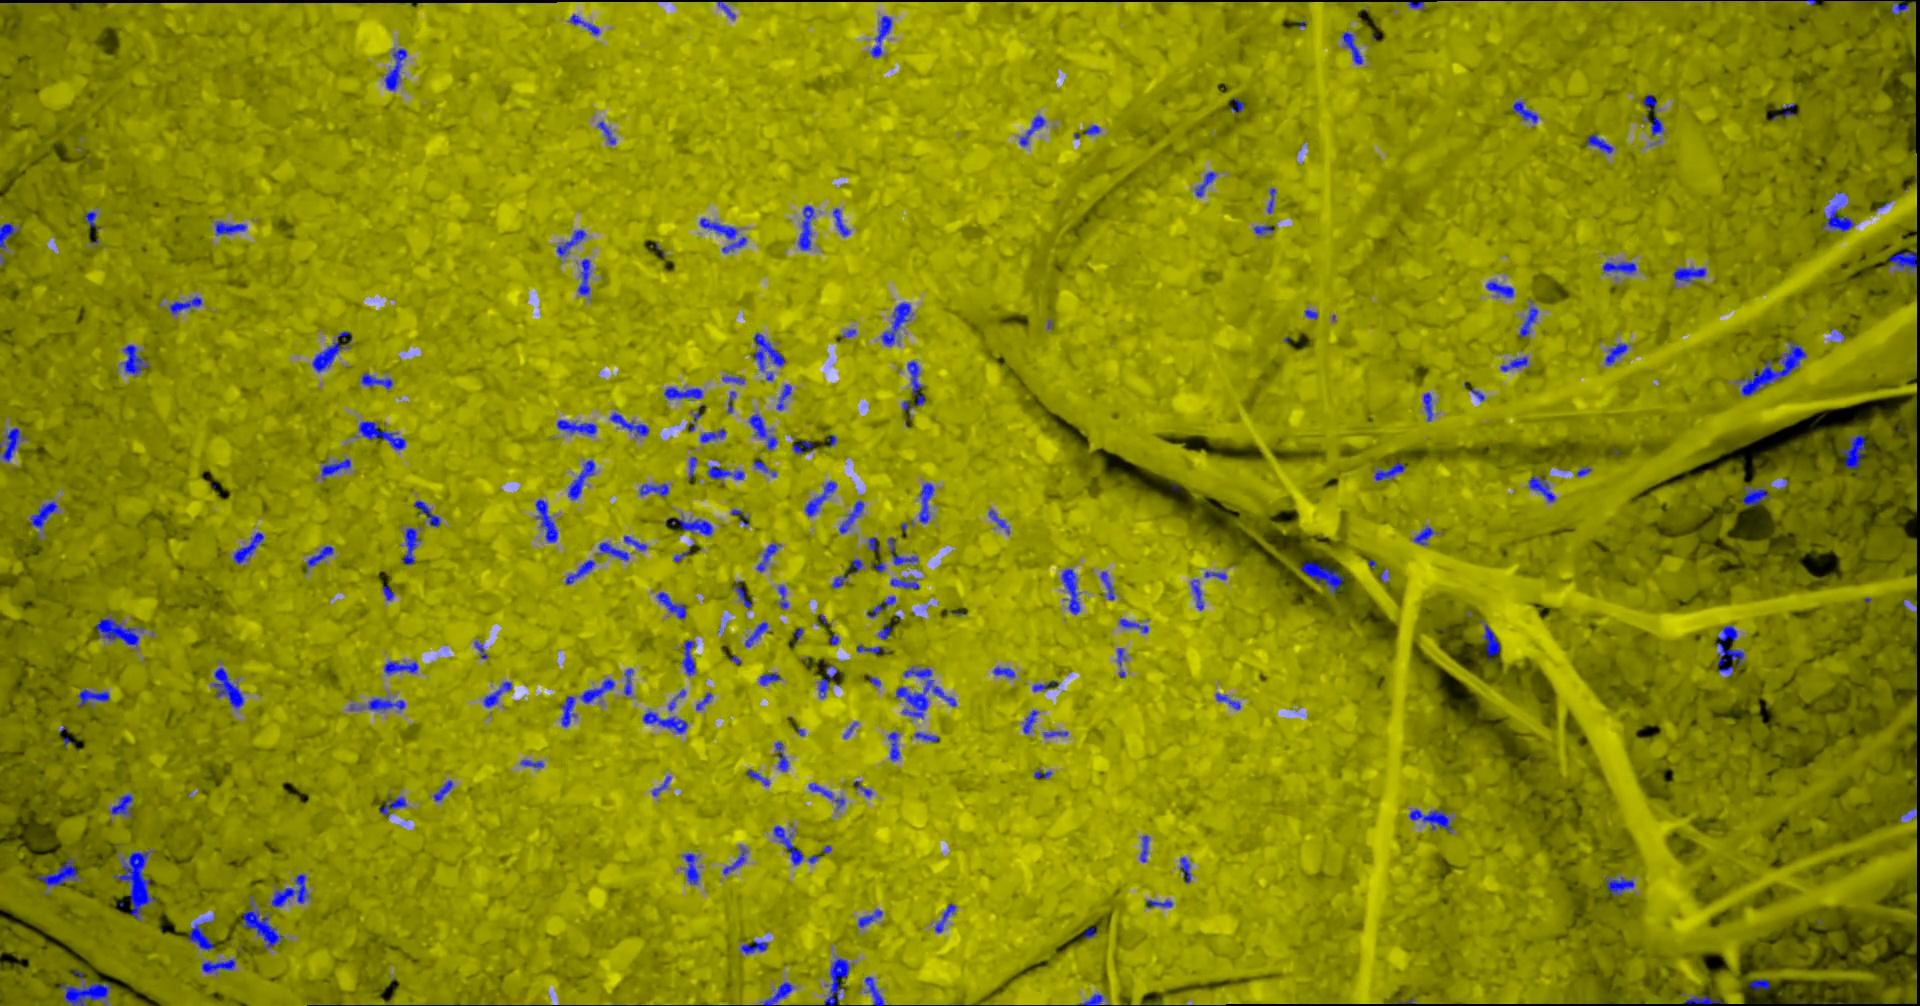ant: (895, 666, 956, 718), (241, 895, 282, 949), (311, 330, 350, 372), (698, 217, 745, 251), (1716, 625, 1743, 677), (880, 301, 912, 345), (1299, 561, 1343, 593), (95, 617, 143, 647), (211, 667, 243, 709), (358, 420, 405, 448), (270, 873, 309, 907), (823, 956, 850, 1005), (36, 857, 79, 887), (753, 332, 785, 371), (58, 982, 110, 1005), (773, 826, 803, 865), (1821, 197, 1854, 231), (804, 480, 836, 516), (568, 459, 594, 499), (1408, 808, 1451, 832), (748, 413, 777, 448), (535, 498, 557, 542), (643, 710, 687, 733), (808, 782, 844, 809), (232, 531, 263, 563), (869, 15, 891, 57), (383, 48, 406, 90), (830, 558, 862, 587), (610, 412, 648, 436), (1839, 433, 1865, 467), (667, 516, 712, 535), (1060, 568, 1079, 614), (579, 678, 615, 702), (838, 500, 863, 533), (0, 427, 24, 461), (556, 229, 585, 257), (121, 344, 149, 373), (888, 537, 917, 565), (907, 359, 924, 405), (759, 981, 792, 1005), (29, 500, 57, 528), (657, 591, 684, 619), (1018, 116, 1044, 146), (564, 559, 594, 584), (483, 681, 510, 708), (187, 922, 213, 950), (1888, 246, 1919, 271), (348, 697, 405, 710), (1341, 30, 1363, 64), (413, 499, 439, 526), (1528, 475, 1556, 500), (723, 845, 747, 874), (1517, 300, 1537, 337), (797, 205, 813, 250), (817, 664, 837, 699), (568, 14, 599, 36), (1482, 622, 1500, 661), (756, 542, 778, 572), (866, 594, 895, 617), (403, 527, 420, 564), (918, 481, 933, 523), (935, 903, 956, 932), (320, 459, 350, 479), (168, 295, 202, 312), (305, 545, 333, 567), (556, 419, 596, 434), (1741, 485, 1770, 506), (863, 976, 884, 1005), (598, 541, 629, 560), (744, 621, 767, 647), (1511, 100, 1538, 122), (378, 795, 406, 815), (77, 688, 109, 706), (559, 695, 577, 727), (1605, 876, 1634, 895), (1604, 342, 1628, 365), (1195, 171, 1217, 197), (1672, 265, 1705, 282), (1374, 462, 1404, 480), (679, 639, 695, 674), (1585, 133, 1613, 152), (706, 465, 744, 479), (201, 958, 235, 973), (988, 509, 1010, 533), (832, 207, 850, 236), (577, 258, 590, 295), (0, 222, 19, 249), (682, 854, 698, 884), (663, 386, 702, 399), (1484, 279, 1512, 297), (733, 580, 750, 608), (110, 793, 132, 815), (215, 220, 246, 235), (361, 372, 392, 387), (383, 661, 418, 674), (432, 779, 452, 801), (857, 909, 883, 927), (1500, 356, 1528, 371), (1098, 572, 1114, 600), (1117, 619, 1148, 633), (775, 741, 789, 771), (1603, 260, 1636, 273), (597, 121, 615, 144), (776, 384, 791, 410), (688, 404, 703, 431), (753, 459, 776, 476), (1683, 995, 1722, 1005), (1771, 103, 1796, 119), (1215, 692, 1239, 709), (745, 768, 770, 785), (1190, 579, 1203, 610), (651, 775, 670, 795), (698, 428, 725, 442), (740, 940, 767, 954), (639, 483, 668, 495), (1644, 116, 1663, 135), (1412, 526, 1432, 544), (668, 688, 684, 710), (623, 535, 646, 550), (1022, 710, 1037, 733), (890, 577, 919, 588), (888, 730, 899, 760), (717, 0, 735, 18), (695, 692, 712, 710), (992, 666, 1015, 678), (1032, 680, 1058, 691), (1178, 856, 1190, 882), (792, 439, 813, 453), (777, 584, 789, 608), (914, 730, 938, 742), (1079, 993, 1103, 1005), (1890, 0, 1909, 14), (1266, 188, 1276, 213), (759, 672, 780, 685), (83, 210, 97, 227), (1423, 392, 1432, 420), (474, 640, 488, 658), (856, 644, 884, 653), (1139, 835, 1148, 862), (623, 668, 632, 695), (1749, 978, 1769, 989), (1642, 94, 1656, 111), (1253, 224, 1272, 235), (519, 760, 543, 768), (877, 624, 891, 639), (721, 375, 744, 384), (1145, 899, 1172, 907), (1230, 97, 1243, 112), (688, 456, 696, 479), (1032, 770, 1051, 779), (728, 391, 735, 413), (1204, 572, 1225, 579), (867, 536, 879, 550), (1407, 0, 1423, 9), (1083, 124, 1100, 133), (382, 586, 392, 600), (1043, 730, 1067, 735)
